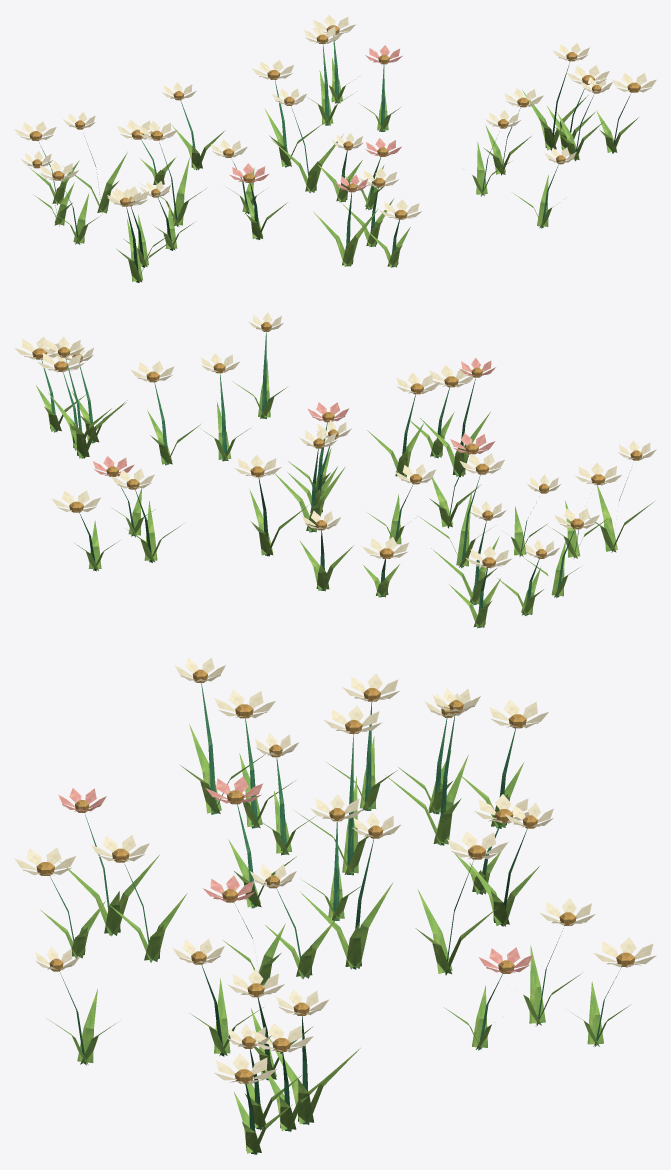
The model's file is StarDaisyDrift.fbx.
3 views of the same model, one above another, from view 1: azimuth 30°, elevation 25°; view 2: azimuth 150°, elevation 25°; view 3: azimuth 270°, elevation 25° (orthographic). The views are drawn at different scales.
Parts seen in each view (by area): view 1: StarDaisyDrift; view 2: StarDaisyDrift; view 3: StarDaisyDrift.
Boxes of the visible parts, x1,y1,x2,y2 form: StarDaisyDrift: (14,15,656,282); StarDaisyDrift: (14,312,656,628); StarDaisyDrift: (14,658,656,1154).
Size of the model in its own units: 384 by 65.06 by 264.
1 material, 1 textured.
